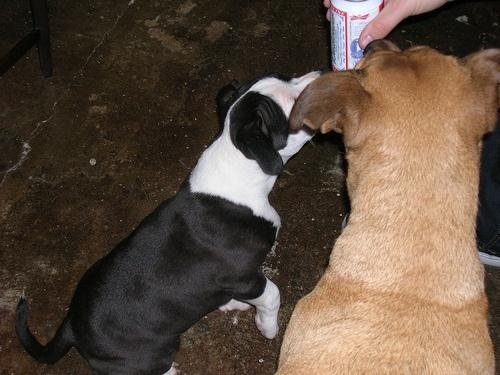dog: (13, 69, 334, 375), (277, 40, 500, 373)
